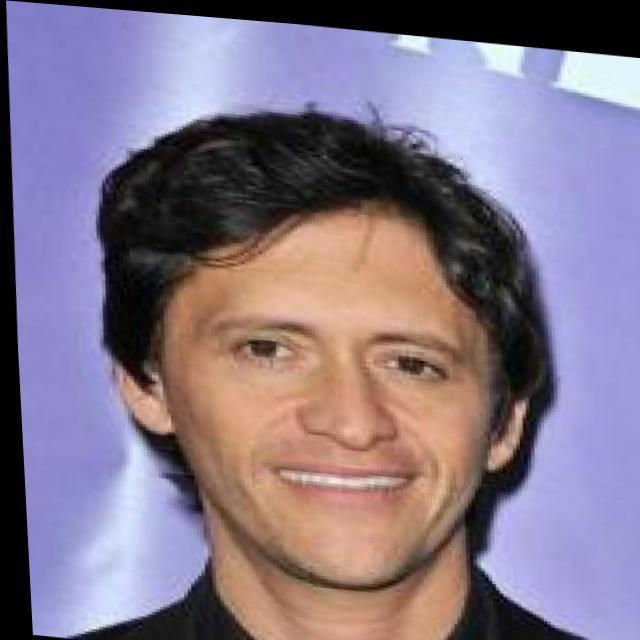Nonhelmet: (92, 99, 559, 589)
